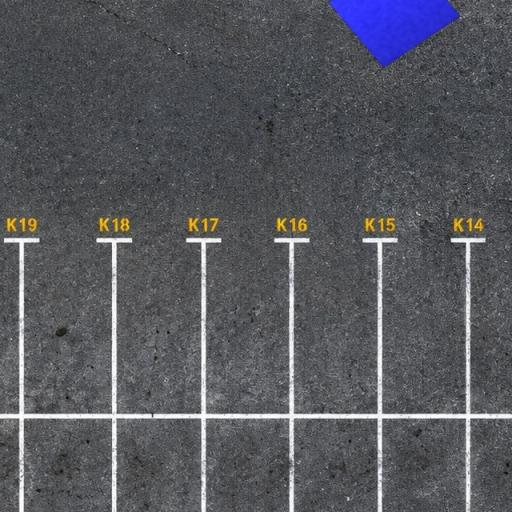BLUE_SQUARE: (328, 0, 461, 69)
